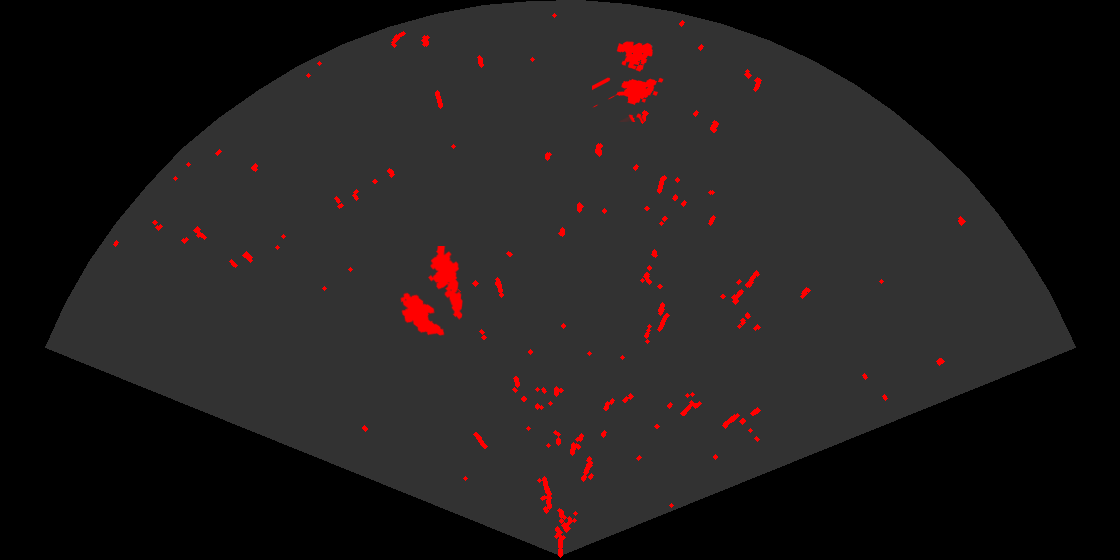AUV: (399, 291, 446, 337)
cage: (592, 39, 665, 122)
frogman: (427, 246, 464, 320)
